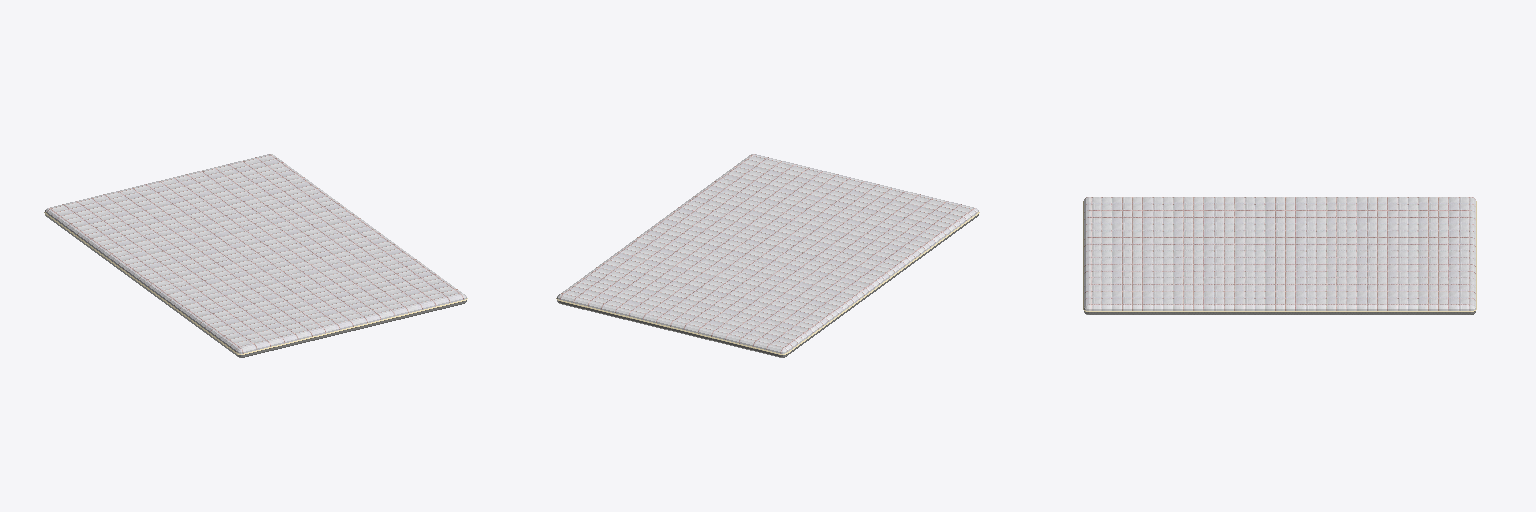
3 renders of one model, left to right at view 1: azimuth 30°, elevation 25°; view 2: azimuth 150°, elevation 25°; view 3: azimuth 270°, elevation 25°, orthographic.
Visible parts, largest first — view 1: mat_check_red; view 2: mat_check_red; view 3: mat_check_red.
Boxes of the visible parts, x1,y1,x2,y2 form: mat_check_red: [44, 154, 467, 357]; mat_check_red: [556, 154, 979, 357]; mat_check_red: [1083, 197, 1476, 314].
Size of the model in its own units: 3.67 by 0.1463 by 5.43.
Materials: 3 (2 with a texture image).